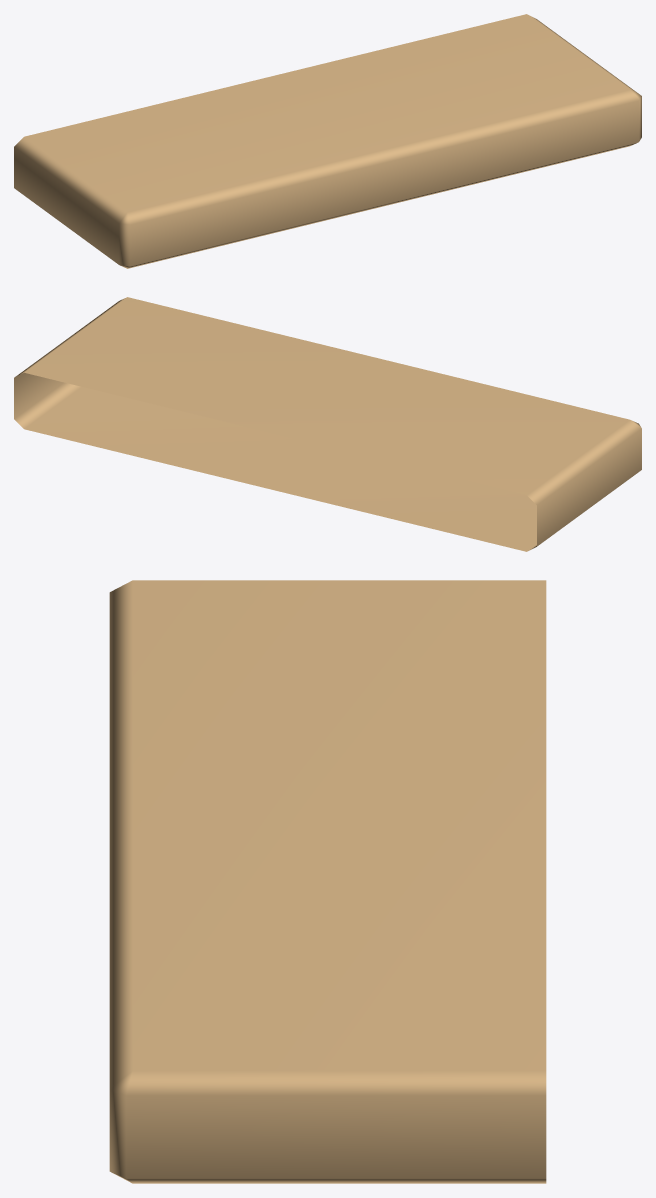
The model's file is DBK_Trim_Extra_Middle.fbx.
3 views of the same model, one above another, from view 1: azimuth 30°, elevation 25°; view 2: azimuth 150°, elevation 25°; view 3: azimuth 270°, elevation 25° (orthographic). The views are drawn at different scales.
Parts seen in each view (by area): view 1: DBK_Trim_Extra_Middle; view 2: DBK_Trim_Extra_Middle; view 3: DBK_Trim_Extra_Middle.
Part boxes in pixels (bbox=[...]): DBK_Trim_Extra_Middle: bbox=[14, 14, 641, 268]; DBK_Trim_Extra_Middle: bbox=[14, 297, 641, 551]; DBK_Trim_Extra_Middle: bbox=[109, 580, 546, 1183].
Size of the model in its own units: 72.37 by 7.48 by 26.19.
